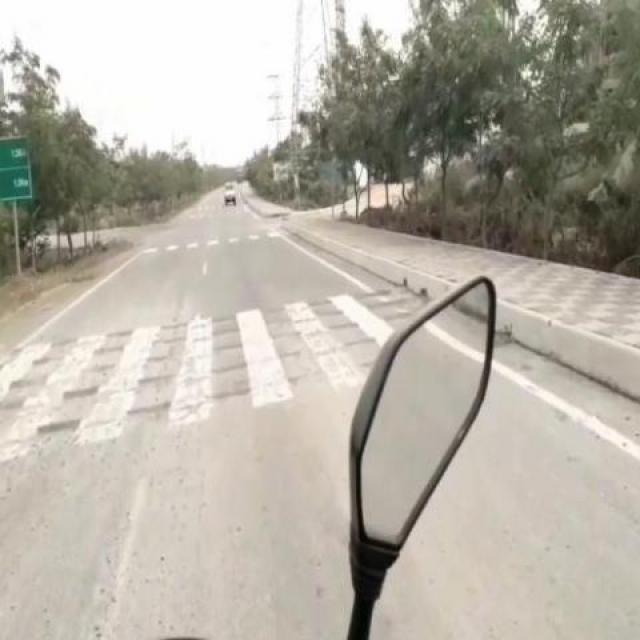Speed Bump: (0, 354, 352, 459), (0, 330, 323, 402), (5, 321, 306, 366), (12, 307, 290, 338)
